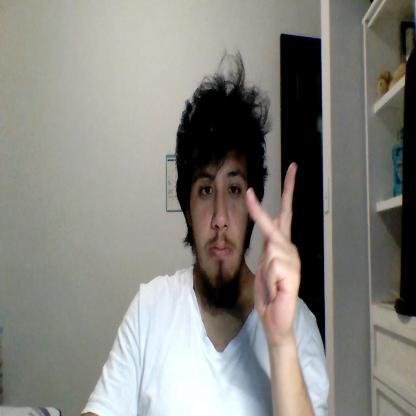P: (246, 161, 300, 334)
